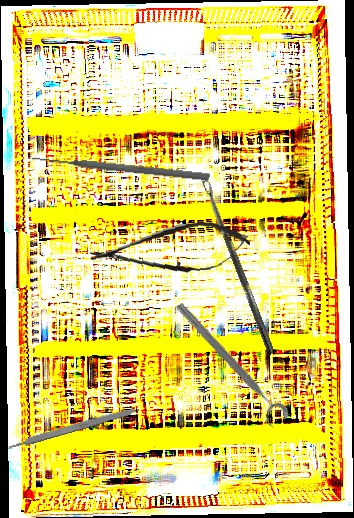Fixation Ring: (166, 299, 292, 431)
Micro Scissor: (88, 218, 252, 281)
Pusher: (30, 152, 211, 183)
Scalpel Handle: (6, 404, 140, 451)
Surgical Spoon: (201, 178, 277, 356)
